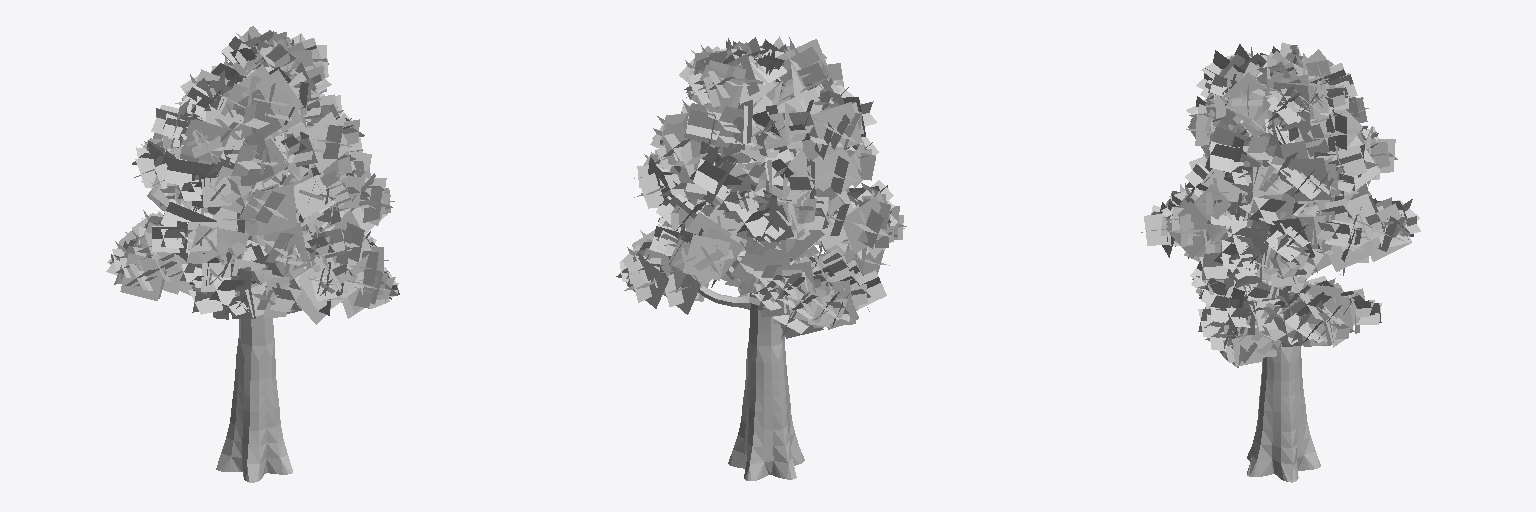
The model's file is TallThick_1.obj.
3 views of the same model, side by side, from view 1: azimuth 30°, elevation 25°; view 2: azimuth 150°, elevation 25°; view 3: azimuth 270°, elevation 25° (orthographic).
Parts seen in each view (by area): view 1: TallThick_1; view 2: TallThick_1; view 3: TallThick_1.
Boxes of the visible parts, box(x1,y1,x2,y2) form: TallThick_1: box(106, 26, 399, 482); TallThick_1: box(616, 36, 906, 480); TallThick_1: box(1141, 42, 1420, 482).
Size of the model in its own units: 9.37 by 14.98 by 9.12.